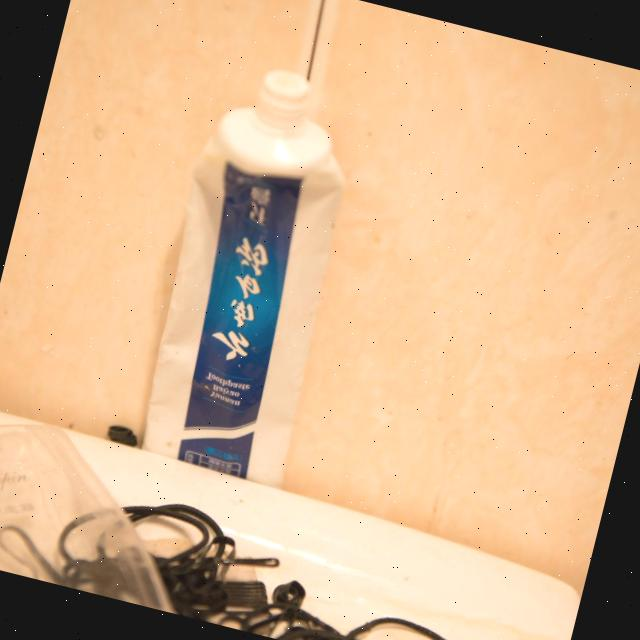Toothpaste: (130, 60, 376, 489)
